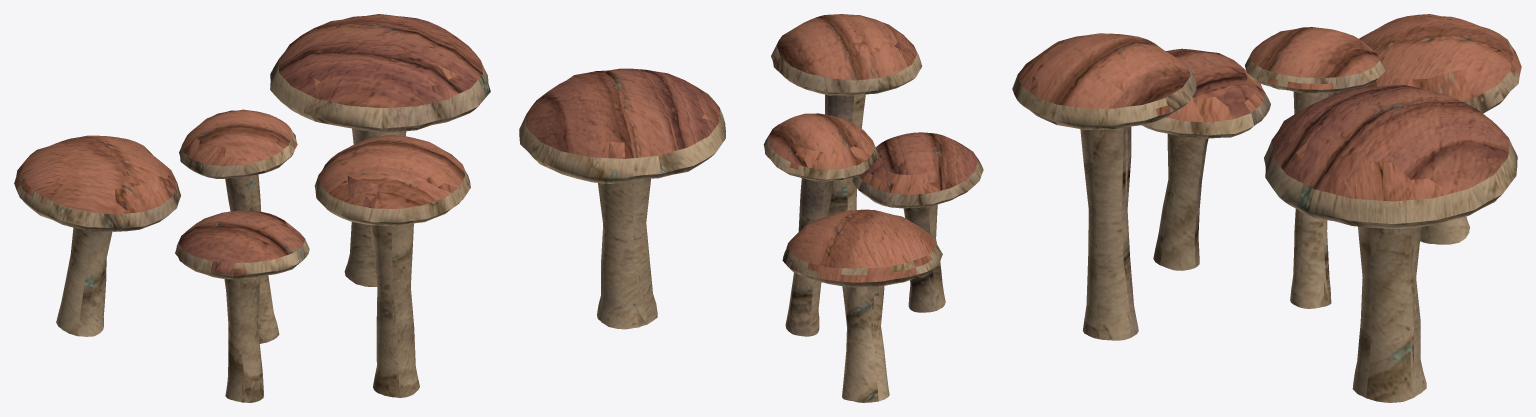
Rendered from wild-mushrooms-v01-photo.glb.
3 views of the same model, side by side, from view 1: azimuth 30°, elevation 25°; view 2: azimuth 150°, elevation 25°; view 3: azimuth 270°, elevation 25° (orthographic). The views are drawn at different scales.
Visible parts, largest first — view 1: wild-mushrooms; view 2: wild-mushrooms; view 3: wild-mushrooms.
Part boxes in pixels (x1,y1,x2,y2): wild-mushrooms: (14,14,490,402); wild-mushrooms: (519,14,983,402); wild-mushrooms: (1012,14,1521,402).
Bounding box in the file's own units: 0.8791 × 0.4776 × 0.7669.
1 material, 1 textured.
